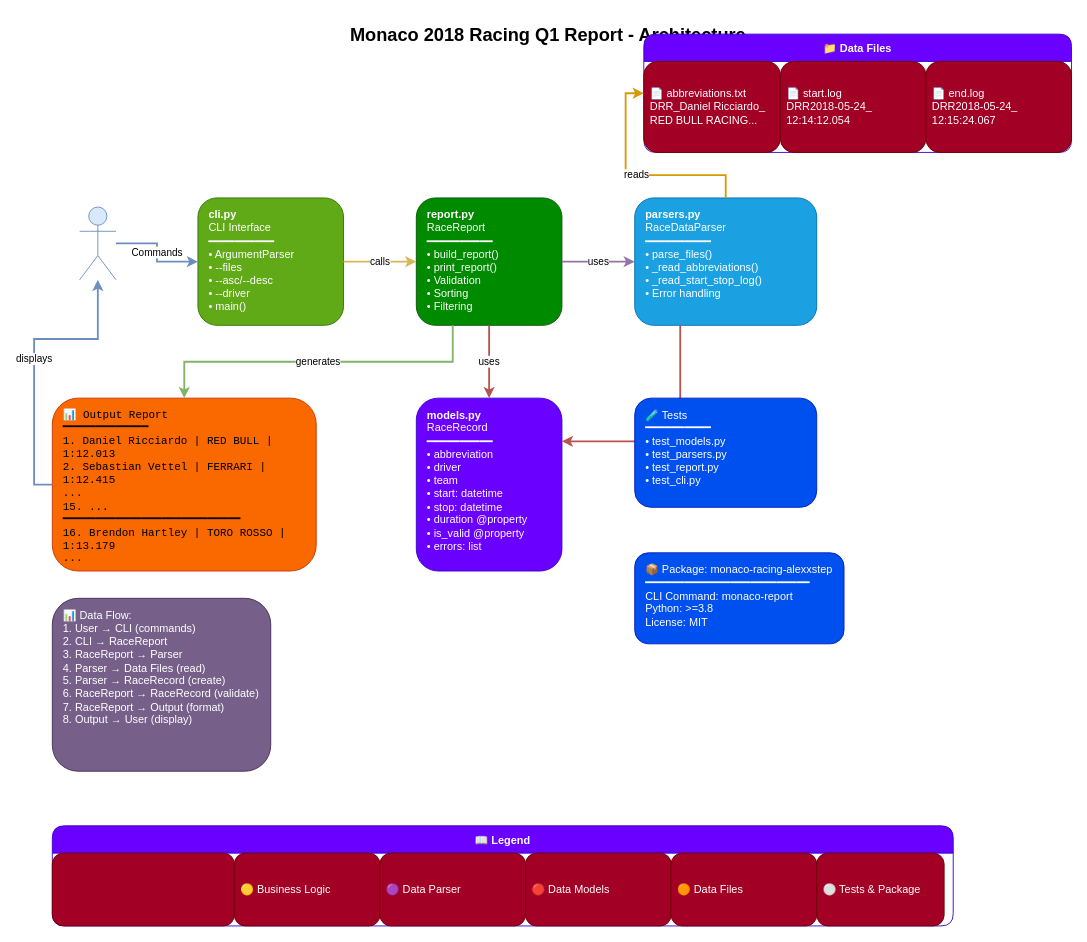
Image size: 1087x942. Some labels were removed from this diagram. The shapes that lost their labels are listed below. From the top down, each one's centre as x and y in pixels, then its label:
pixel 97 243: 👤 User
pixel 142 889: 🟢 CLI Layer
